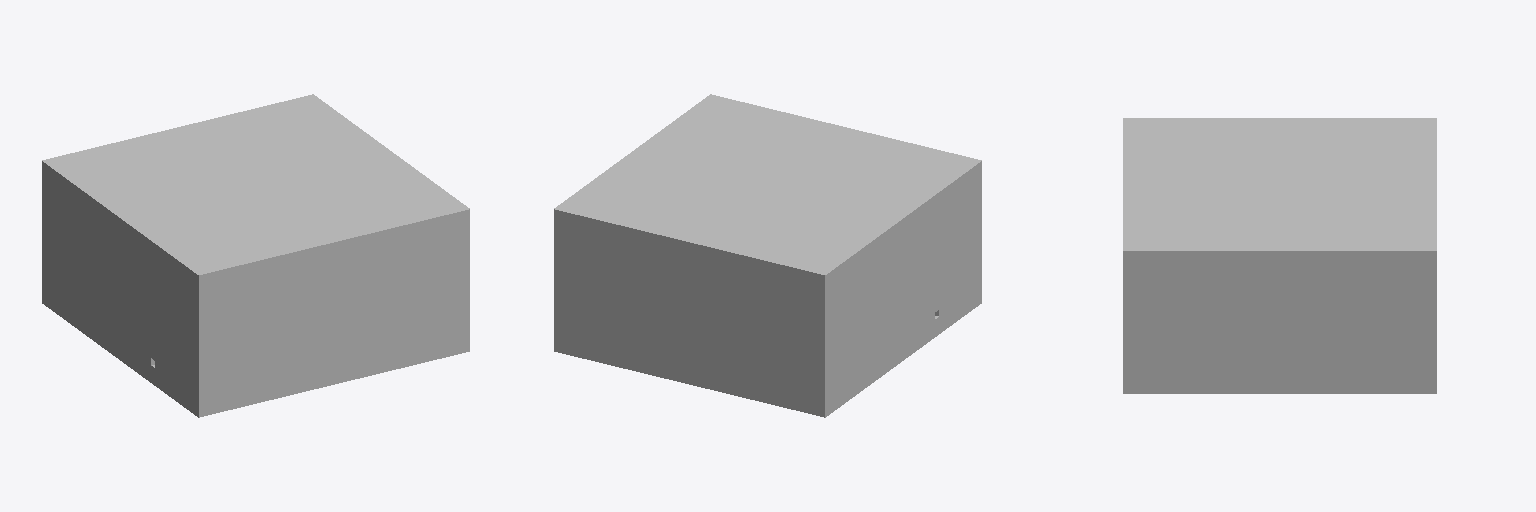
File: world.obj
The picture shows the model from 3 angles: view 1: azimuth 30°, elevation 25°; view 2: azimuth 150°, elevation 25°; view 3: azimuth 270°, elevation 25°; orthographic projection.
Parts seen in each view (by area): view 1: world; view 2: world; view 3: world.
Part boxes in pixels (x1,y1,x2,y2): world: (42,94,469,417); world: (554,94,981,417); world: (1123,118,1436,393).
Size of the model in its own units: 80 by 40 by 80.